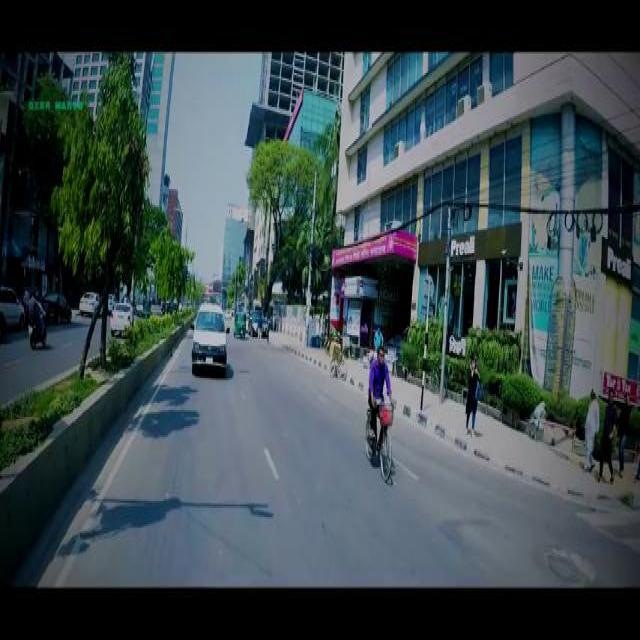bicycle: (364, 398, 392, 482), (328, 348, 346, 378)
car: (0, 282, 25, 326), (42, 288, 70, 320), (108, 298, 130, 330), (78, 286, 100, 311)
minivan: (190, 300, 226, 369)
three wheelers -CNG-: (28, 310, 46, 348), (232, 310, 245, 334)
